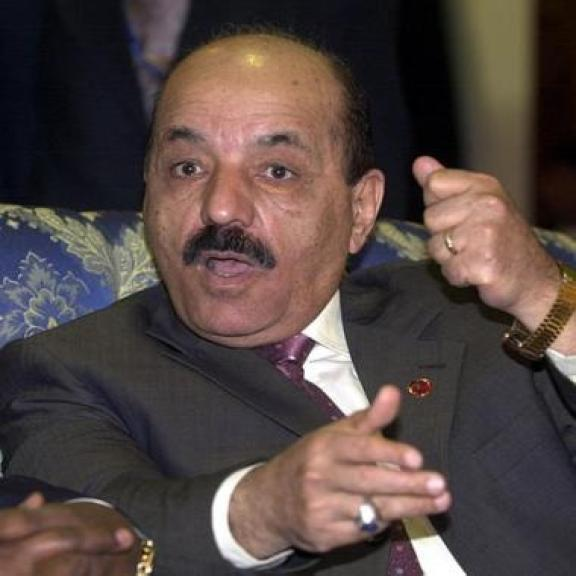face: (134, 63, 392, 347)
